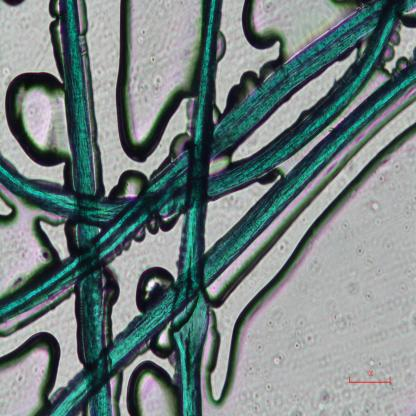Air bubble: (290, 120, 416, 318), (108, 1, 192, 157), (206, 262, 294, 406), (1, 70, 69, 167), (0, 331, 62, 416), (240, 0, 300, 56), (126, 361, 176, 414), (134, 264, 173, 314), (224, 67, 257, 112), (109, 167, 149, 191), (218, 31, 228, 63)
Background material: (352, 345, 416, 410), (236, 353, 277, 411), (353, 238, 381, 276), (349, 270, 377, 304), (291, 313, 314, 352), (308, 387, 337, 410), (256, 338, 271, 362), (138, 24, 148, 49), (274, 350, 284, 372), (152, 75, 166, 88), (146, 51, 158, 65), (373, 198, 382, 216), (376, 216, 384, 231)
Microfibre: (0, 0, 416, 325), (49, 64, 416, 415), (0, 2, 400, 228), (57, 0, 112, 416), (170, 1, 223, 415), (33, 214, 72, 264), (0, 189, 17, 224)
